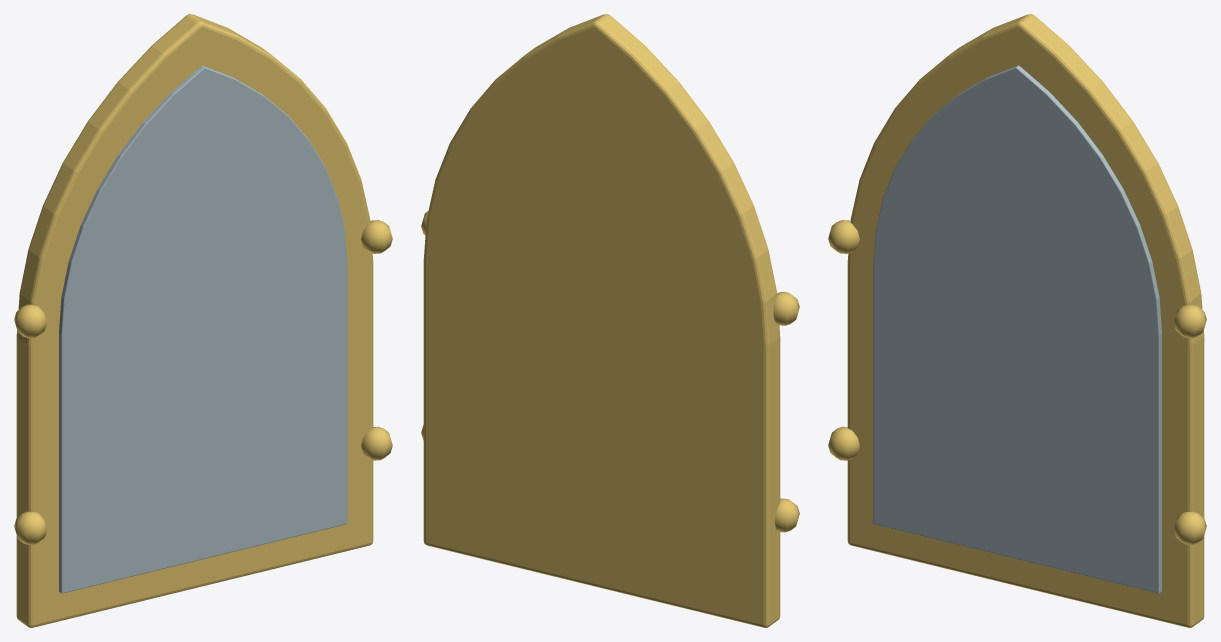
The model's file is mirror_ornate_gold.glb.
3 views of the same model, side by side, from view 1: azimuth 30°, elevation 25°; view 2: azimuth 150°, elevation 25°; view 3: azimuth 330°, elevation 25° (orthographic).
Parts seen in each view (by area): view 1: GD_mirror_ornate_gold__m1, GD_mirror_ornate_gold__m0; view 2: GD_mirror_ornate_gold__m0; view 3: GD_mirror_ornate_gold__m1, GD_mirror_ornate_gold__m0.
Boxes of the visible parts, <box> form: GD_mirror_ornate_gold__m1: <box>59,65,347,593</box>; GD_mirror_ornate_gold__m0: <box>14,14,392,627</box>; GD_mirror_ornate_gold__m0: <box>421,14,799,627</box>; GD_mirror_ornate_gold__m1: <box>873,65,1161,593</box>; GD_mirror_ornate_gold__m0: <box>828,14,1206,627</box>.
Bounding box in the file's own units: 0.76 × 1.09 × 0.085.
